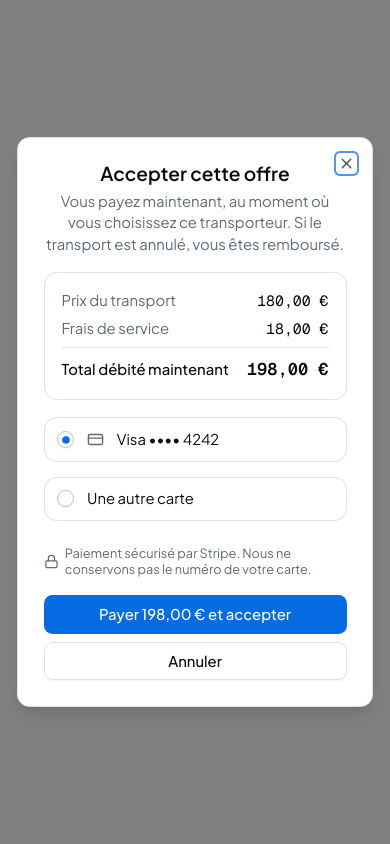
AcceptPaymentDialog — a job that is paid here › says the card was not debited only when the server refused the award
The width and height of the screenshot is (390, 844).
Click the button "Payer 198,00 € et accepter" at (195, 615), box [44,596,346,634]
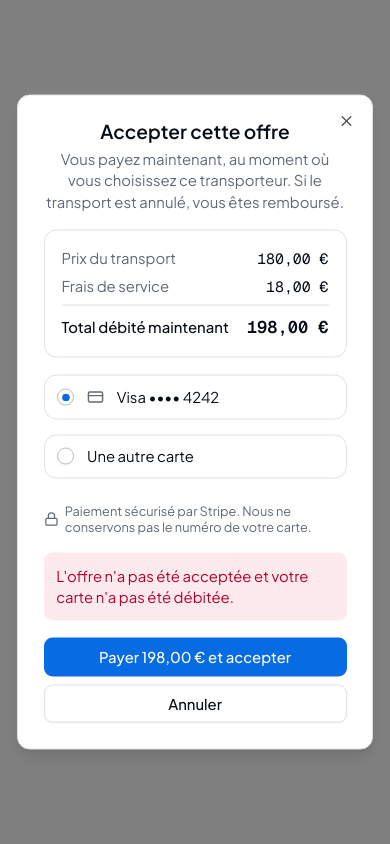
Expected: the button "Payer 198,00 € et accepter" is shown, [44,638,346,676]
Expected: the text "L'offre n'a pas été acceptée et votre carte n'a pas été débitée." is shown, [44,553,346,621]
